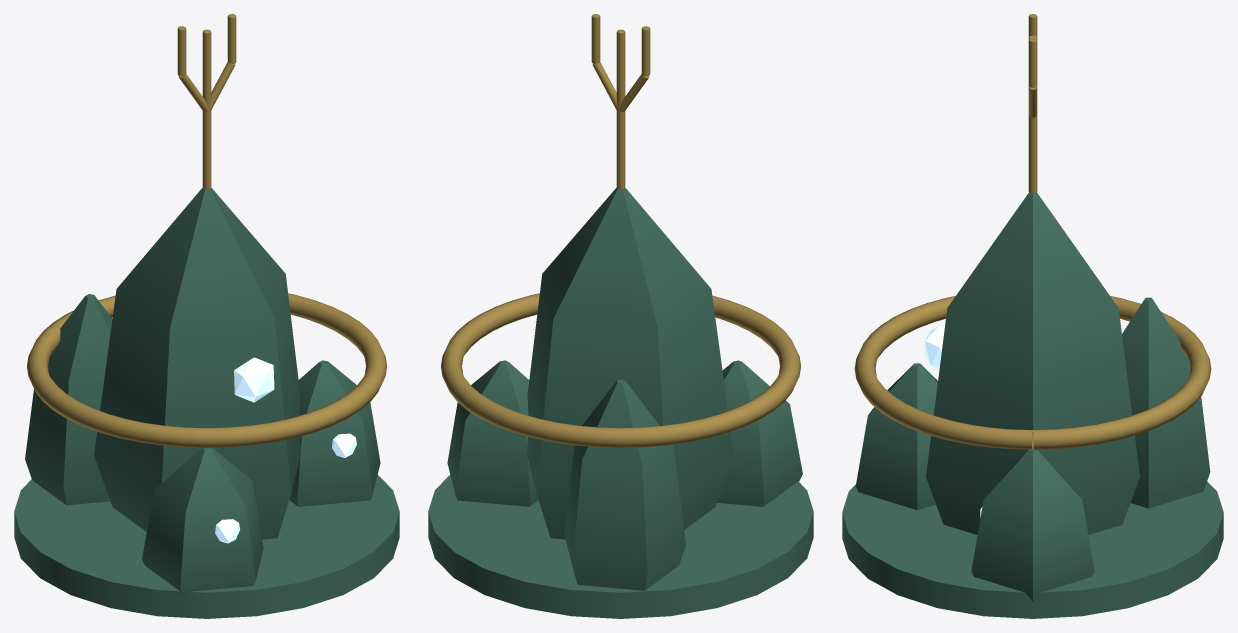
3 views of the same model, side by side, from view 1: azimuth 30°, elevation 25°; view 2: azimuth 150°, elevation 25°; view 3: azimuth 270°, elevation 25° (orthographic).
Visible parts, largest first — view 1: Faceted crystal tower, Foundation drum, Faceted crystal tower.003, Crystal conductive halo, Faceted crystal tower.002, Faceted crystal tower.001, Aerial stem, Central luminous node; view 2: Faceted crystal tower, Foundation drum, Faceted crystal tower.002, Crystal conductive halo, Faceted crystal tower.001, Faceted crystal tower.003, Aerial stem; view 3: Faceted crystal tower, Foundation drum, Faceted crystal tower.001, Crystal conductive halo, Faceted crystal tower.002, Faceted crystal tower.003, Aerial stem, Central luminous node.
Boxes of the visible parts, x1=… form: Faceted crystal tower: x1=94, y1=187, x2=300, y2=539; Foundation drum: x1=14, y1=475, x2=399, y2=618; Faceted crystal tower.003: x1=142, y1=448, x2=263, y2=596; Crystal conductive halo: x1=27, y1=293, x2=386, y2=447; Faceted crystal tower.002: x1=25, y1=294, x2=112, y2=505; Faceted crystal tower.001: x1=289, y1=360, x2=380, y2=506; Aerial stem: x1=202, y1=29, x2=211, y2=189; Central luminous node: x1=234, y1=357, x2=274, y2=402; Faceted crystal tower: x1=527, y1=187, x2=733, y2=539; Foundation drum: x1=428, y1=475, x2=813, y2=618; Faceted crystal tower.002: x1=564, y1=379, x2=685, y2=590; Crystal conductive halo: x1=441, y1=293, x2=800, y2=447; Faceted crystal tower.001: x1=447, y1=360, x2=538, y2=506; Faceted crystal tower.003: x1=717, y1=360, x2=802, y2=506; Aerial stem: x1=616, y1=29, x2=625, y2=189; Faceted crystal tower: x1=926, y1=193, x2=1139, y2=534; Foundation drum: x1=842, y1=481, x2=1223, y2=618; Faceted crystal tower.001: x1=971, y1=449, x2=1094, y2=601; Crystal conductive halo: x1=854, y1=296, x2=1211, y2=449; Faceted crystal tower.002: x1=1122, y1=297, x2=1210, y2=508; Faceted crystal tower.003: x1=855, y1=363, x2=937, y2=510; Aerial stem: x1=1028, y1=35, x2=1037, y2=193; Central luminous node: x1=925, y1=326, x2=944, y2=369.
Bounding box in the file's own units: 2.04 × 2.95 × 2.
